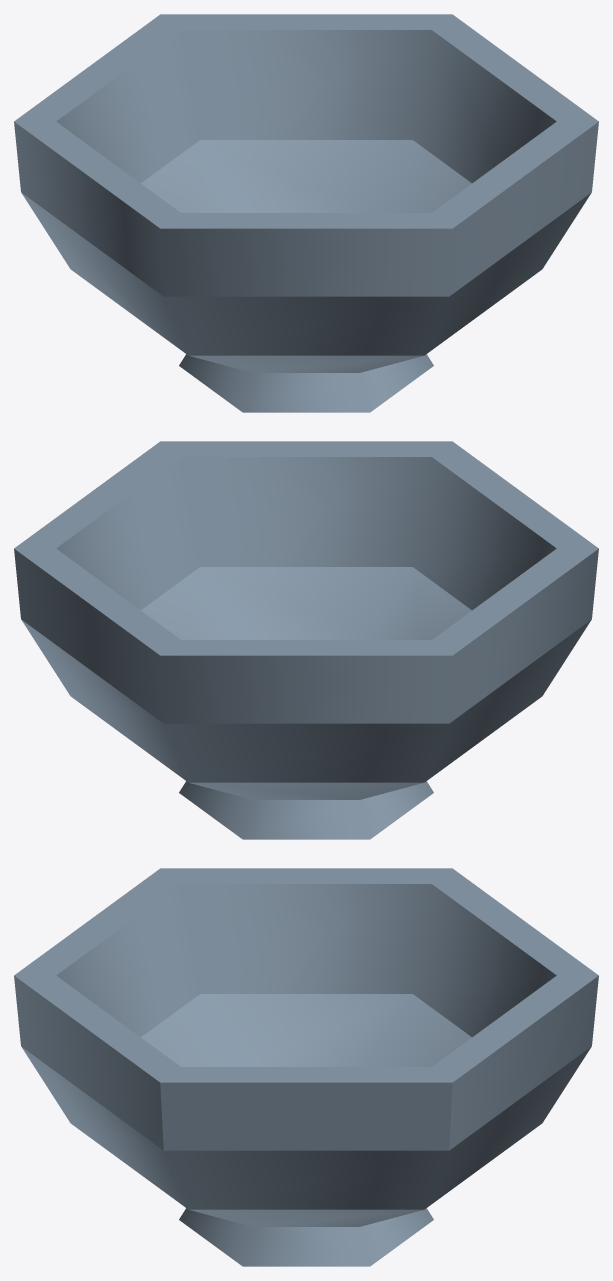
File: mortar.GLB
3 views of the same model, one above another, from view 1: azimuth 30°, elevation 25°; view 2: azimuth 150°, elevation 25°; view 3: azimuth 270°, elevation 25° (orthographic).
Visible parts, largest first — view 1: mortar; view 2: mortar; view 3: mortar.
Boxes of the visible parts, box(x1,y1,x2,y2) form: mortar: box(14, 14, 598, 412); mortar: box(14, 441, 598, 839); mortar: box(14, 868, 598, 1266).
Size of the model in its own units: 0.3955 by 0.2104 by 0.4567.
